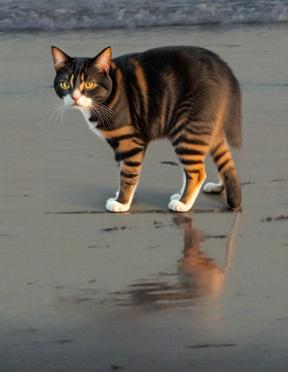cat: (43, 45, 242, 213)
